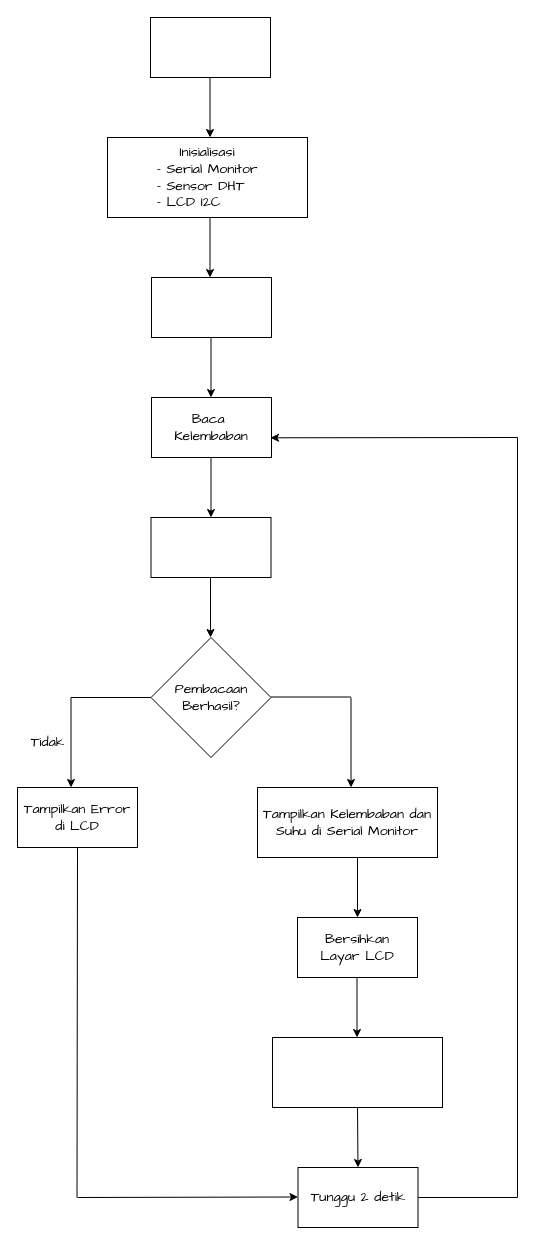
Image size: 543x1245. Some labels were removed from this diagram. The box of each missing label's shape, as (x1, y1, x2, y2) in pixels:
Baca Suhu: (150, 516, 271, 578)
Mulai: (150, 16, 270, 78)
Tampilkan di LCD 'Mengukur..': (150, 276, 272, 338)
Tampilkan Kelembapan dan Suhu di LCD: (272, 1036, 442, 1108)
